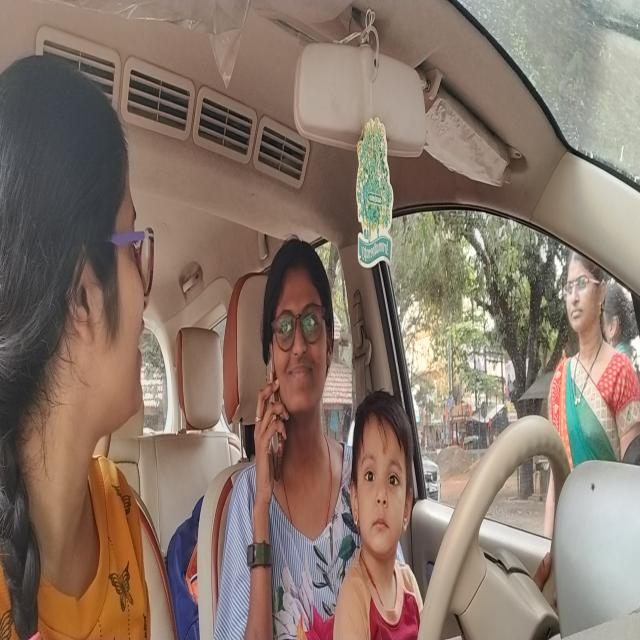child: (352, 406, 411, 563)
mobile: (264, 352, 285, 476)
person: (57, 64, 155, 444), (266, 255, 334, 416)
